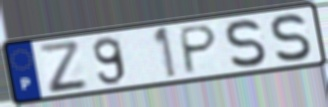1: (151, 25, 179, 81)
9: (91, 36, 127, 86)
P: (179, 23, 220, 77)
S: (269, 11, 314, 64), (224, 17, 269, 69)
Z: (36, 39, 91, 95)
